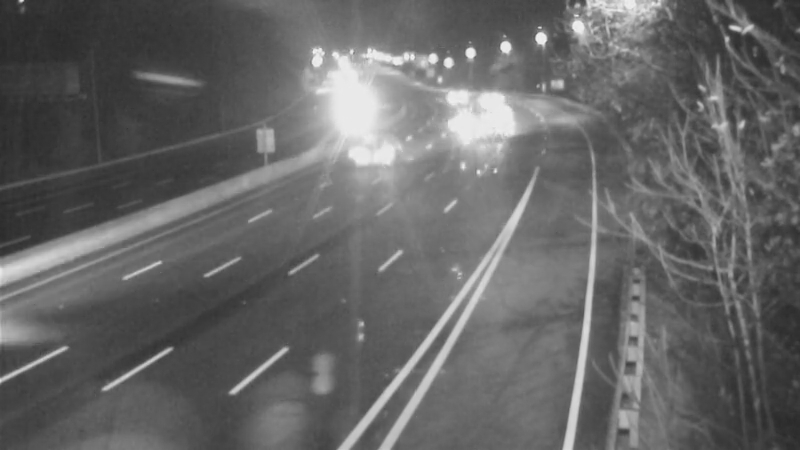vehicle: (337, 112, 417, 192), (422, 67, 472, 117), (453, 70, 503, 120), (474, 90, 524, 140), (437, 95, 487, 145), (459, 109, 509, 159), (321, 84, 371, 134)
